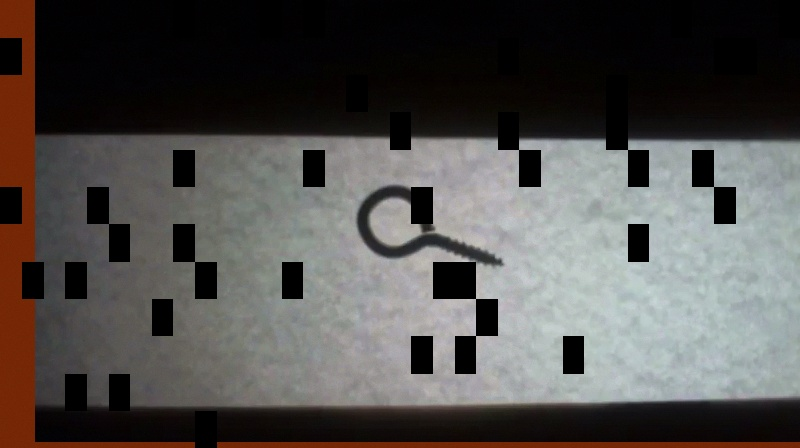O001: (350, 180, 507, 272)
